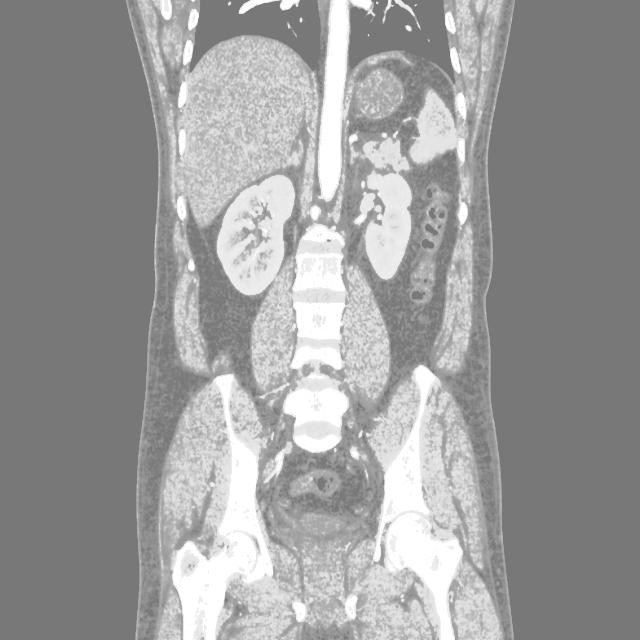NORMAL: (85, 34, 568, 531)
